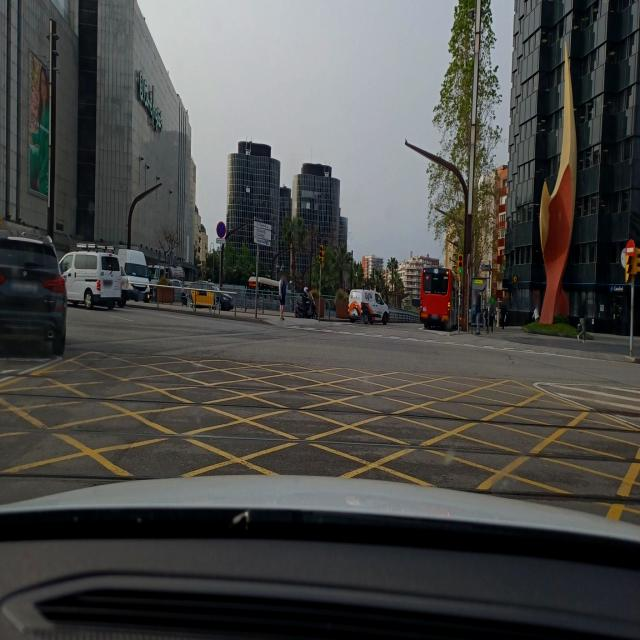bike: (294, 295, 318, 319)
car: (0, 217, 67, 355), (60, 244, 123, 310), (348, 288, 390, 324), (187, 282, 233, 309)
